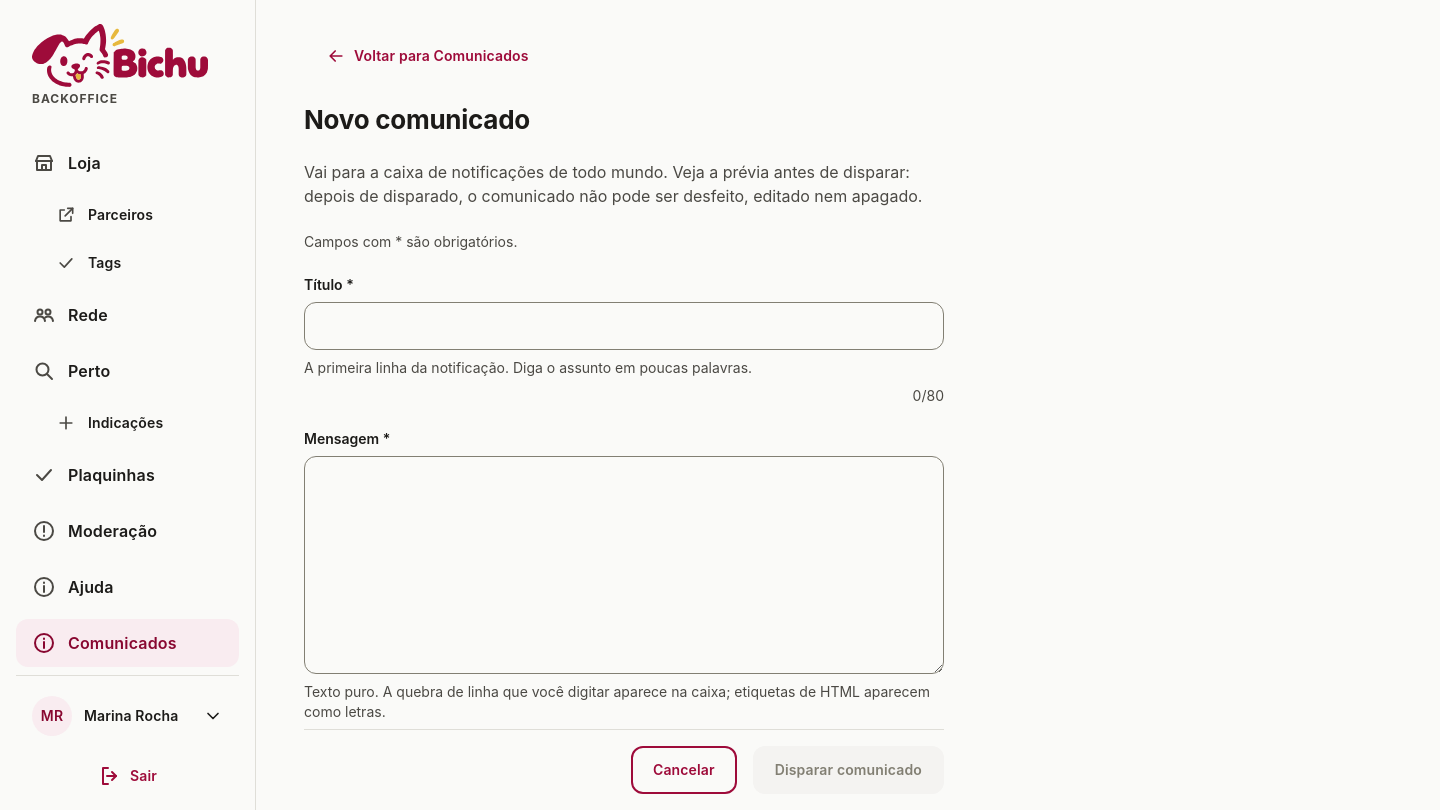
it: comunicado: o teto de 3 por dia › CONTRAPESO: `remaining_today: 1` libera o disparo, e o dialogo diz que e o ultimo de hoje
Type "Mutirão de castração no sábado" into the field labelled "Título *" at (624, 326), box [304,302,944,350]
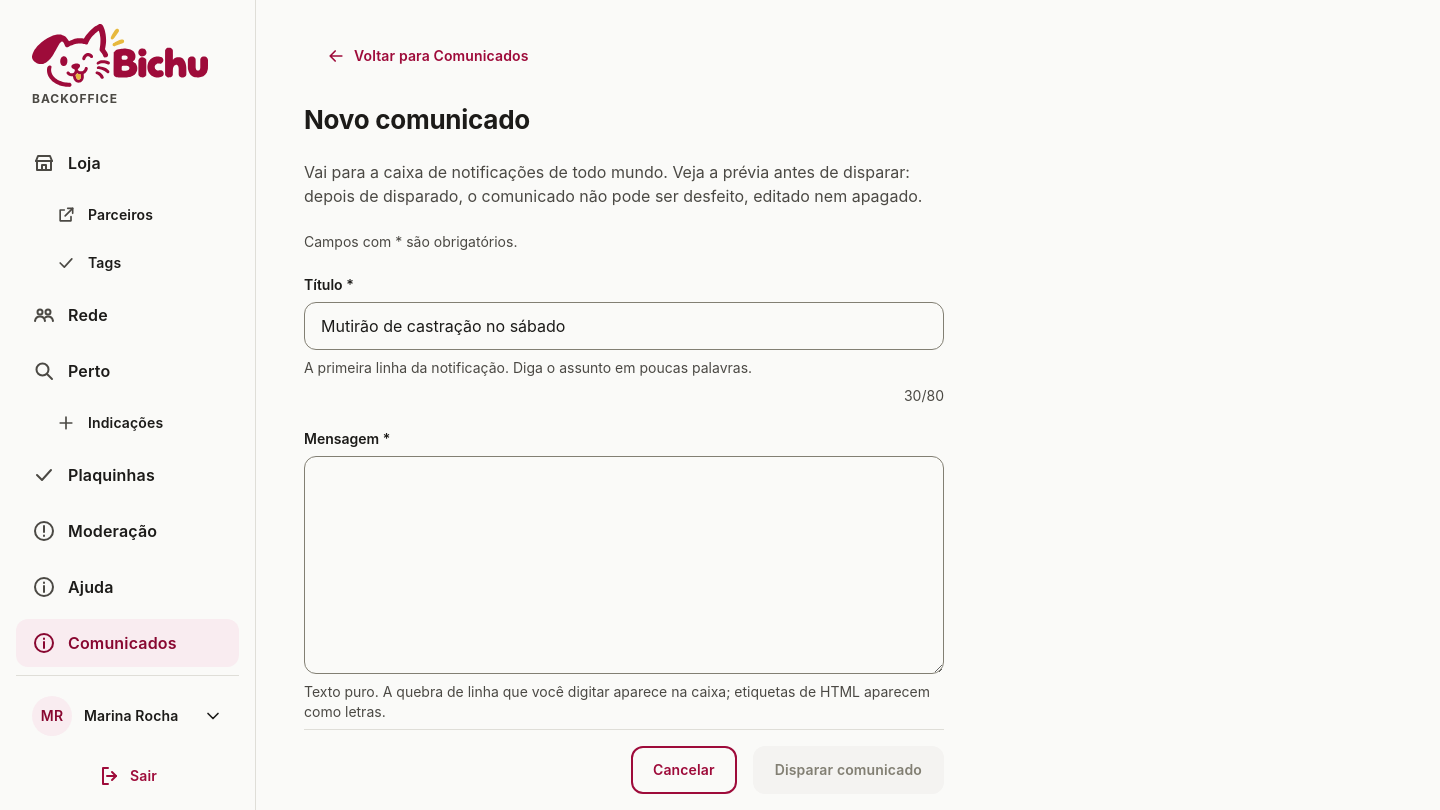
Type "A prefeitura abriu 120 vagas para castração gratuita." into the text box labelled "Mensagem *" at (624, 565), box [304,456,944,674]
(page scrolled)
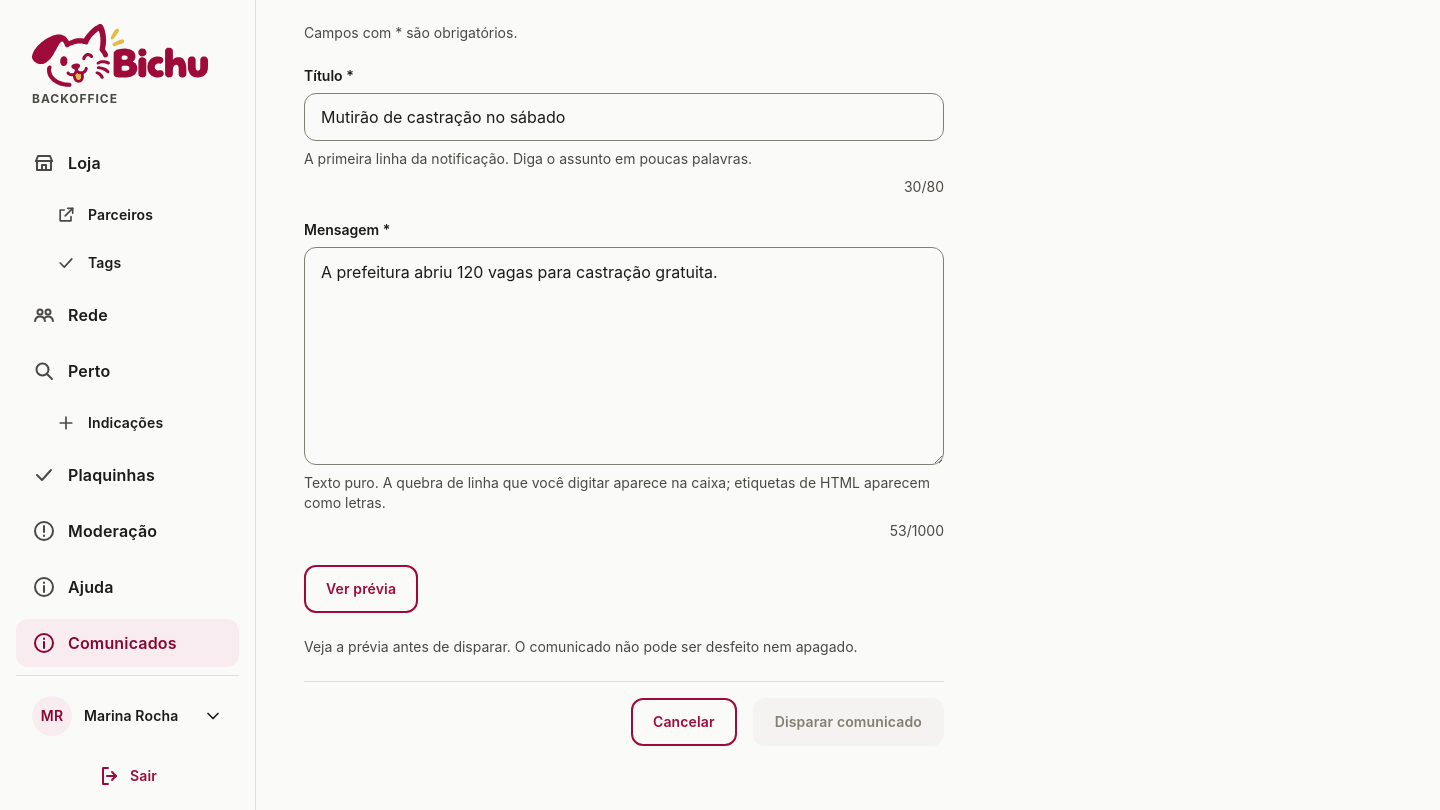
Click the button "Ver prévia" at (361, 589), box [304,565,418,613]
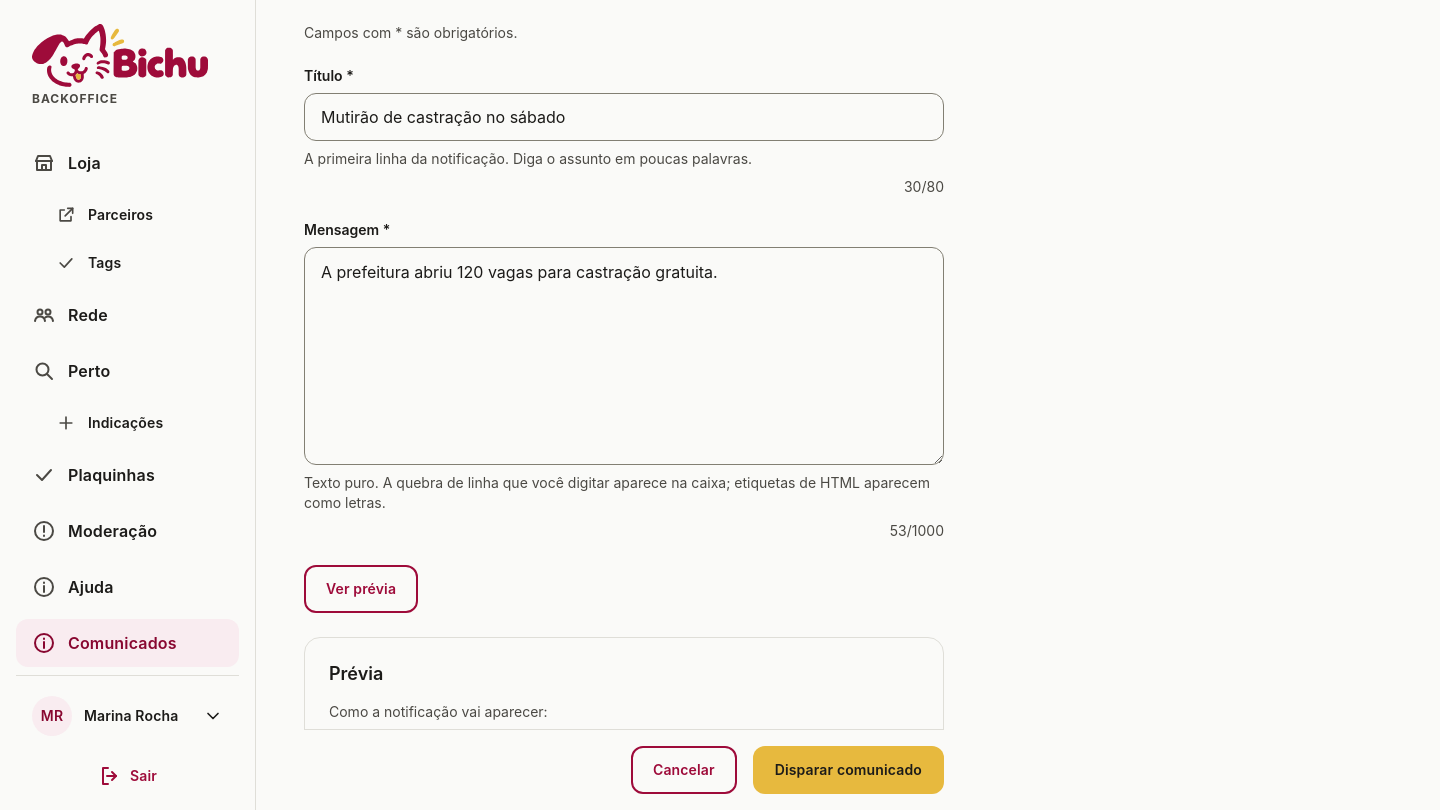
Result: the button "Disparar comunicado" is enabled
Click the button "Disparar comunicado" at (848, 770), box [753,746,944,794]
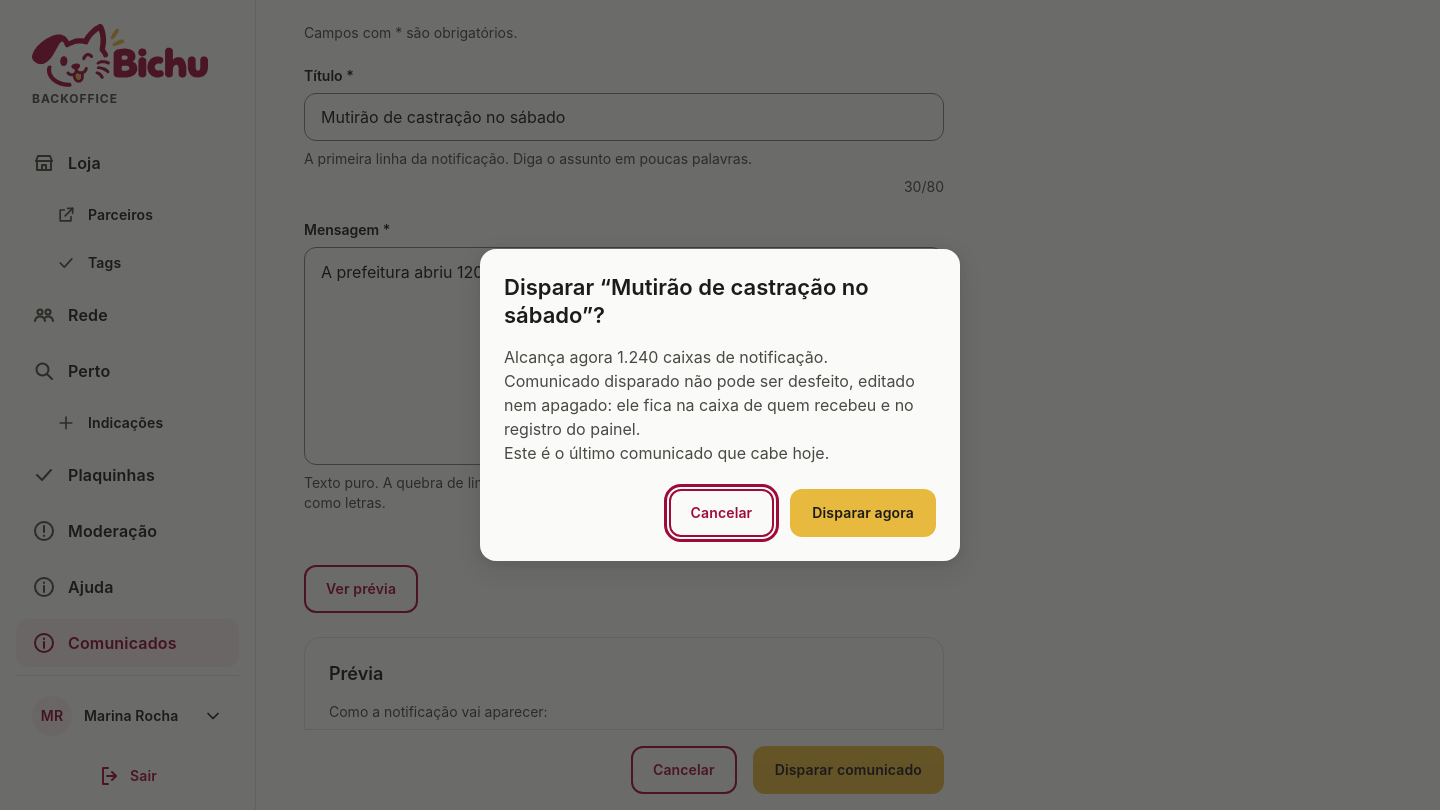
Result: the text "Este é o último comunicado que cabe hoje." is shown at [504,443,829,463]
